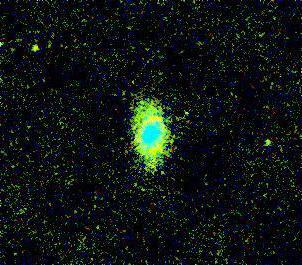star: (251, 123, 281, 153)
